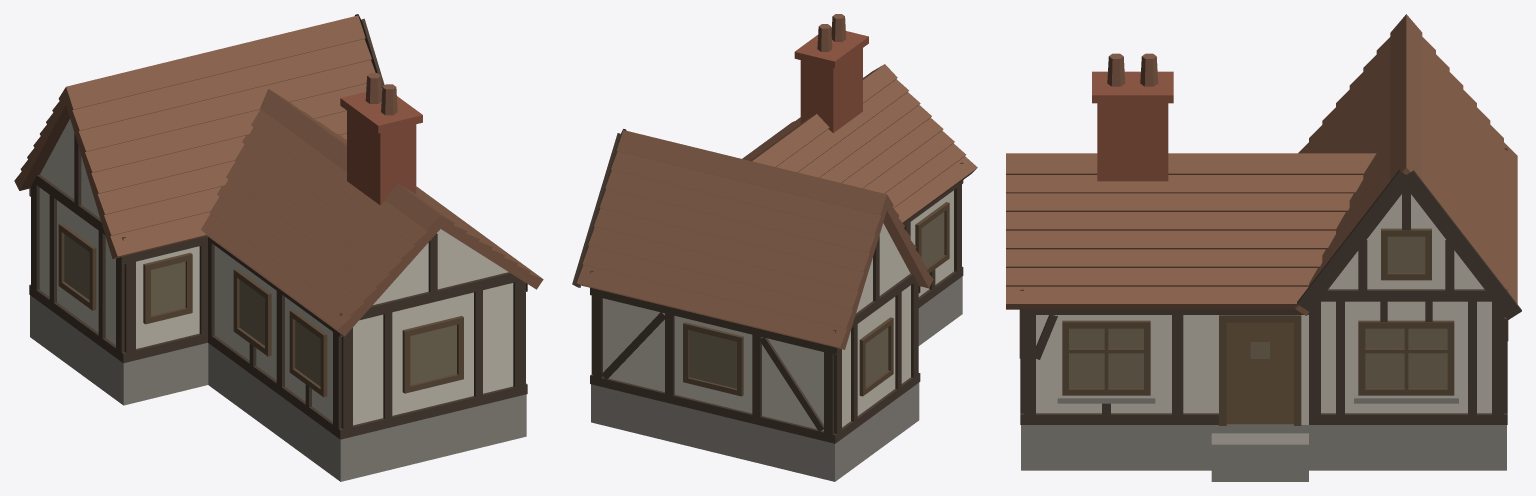
Rendered from house_longhouse.glb.
The picture shows the model from 3 angles, left to right: view 1: azimuth 30°, elevation 25°; view 2: azimuth 150°, elevation 25°; view 3: azimuth 270°, elevation 25°; orthographic projection. The views are drawn at different scales.
Parts seen in each view (by area): view 1: house_longhouse_lod0; view 2: house_longhouse_lod0; view 3: house_longhouse_lod0.
Part boxes in pixels (bbox=[...]): house_longhouse_lod0: bbox=[14, 14, 543, 481]; house_longhouse_lod0: bbox=[572, 14, 977, 481]; house_longhouse_lod0: bbox=[1006, 14, 1521, 481].
Size of what is drawn, in the model's own units: 5.02 by 5.38 by 6.88.
